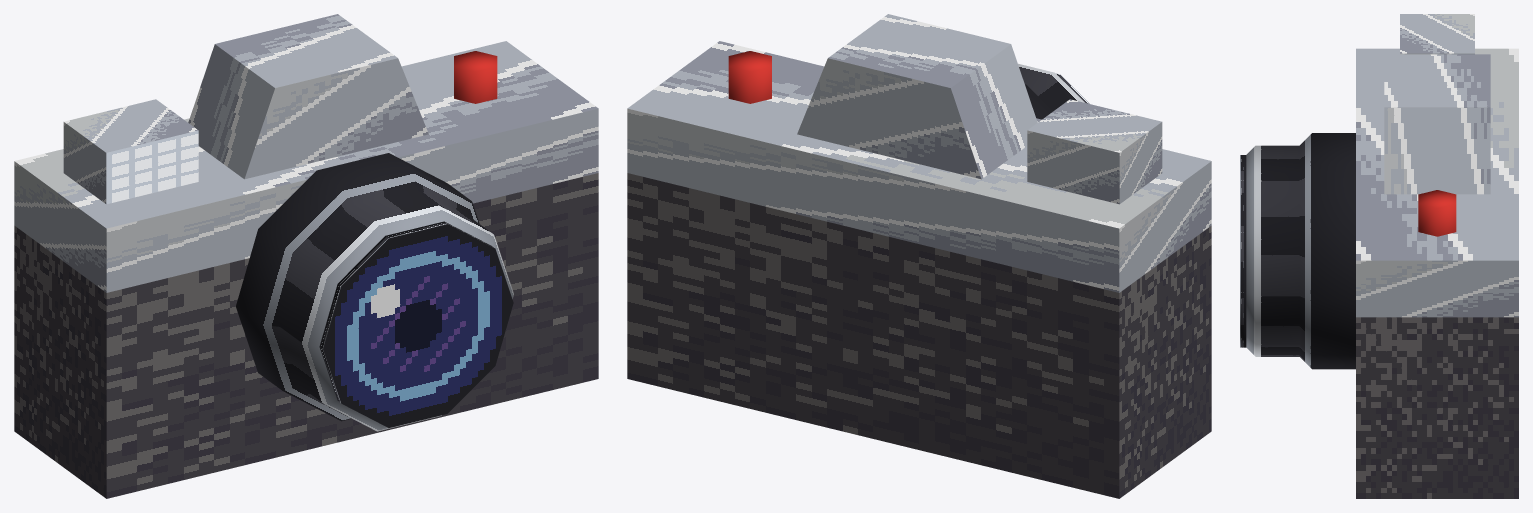
Rendered from outdoors-camera.glb.
3 renders of one model, left to right at view 1: azimuth 30°, elevation 25°; view 2: azimuth 150°, elevation 25°; view 3: azimuth 270°, elevation 25°, orthographic. The views are drawn at different scales.
Parts seen in each view (by area): view 1: outdoors.camera; view 2: outdoors.camera; view 3: outdoors.camera.
Part boxes in pixels (bbox=[...]): outdoors.camera: bbox=[14, 14, 598, 498]; outdoors.camera: bbox=[627, 14, 1211, 498]; outdoors.camera: bbox=[1240, 14, 1518, 498].
Bounding box in the file's own units: 1.5 × 1.03 × 0.8334.
Materials: 6 (6 with a texture image).
